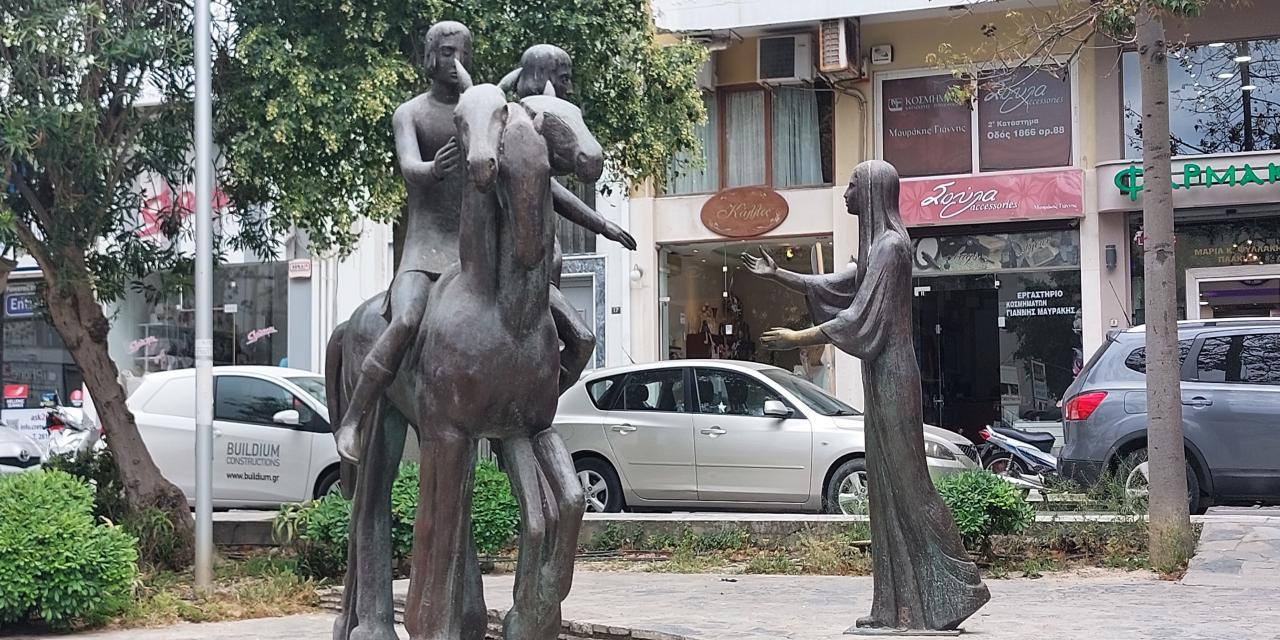Aretousa: (322, 18, 991, 640)
